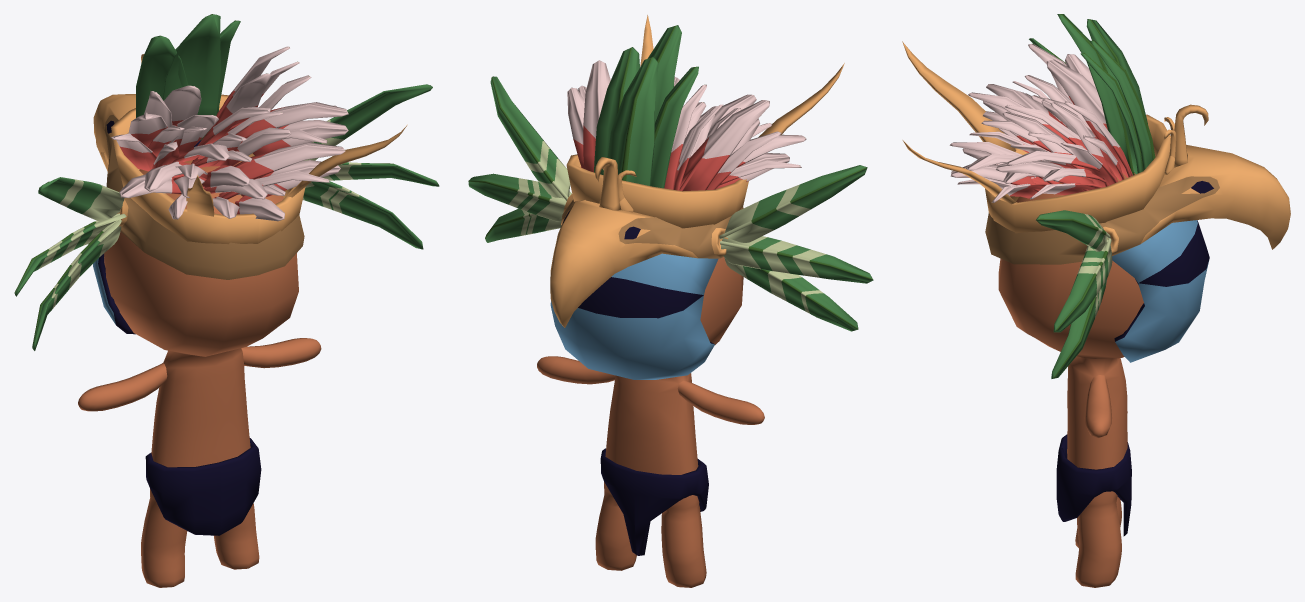
Rendered from Huitzilopochtli.fbx.
The picture shows the model from 3 angles, left to right: view 1: azimuth 30°, elevation 25°; view 2: azimuth 150°, elevation 25°; view 3: azimuth 270°, elevation 25°; orthographic projection. The views are drawn at different scales.
Parts seen in each view (by area): view 1: Skin; view 2: Skin; view 3: Skin.
Part boxes in pixels (x1,y1,x2,y2): Skin: [14, 14, 439, 587]; Skin: [468, 15, 873, 587]; Skin: [902, 14, 1290, 587].
Bounding box in the file's own units: 538 × 689 × 444.
